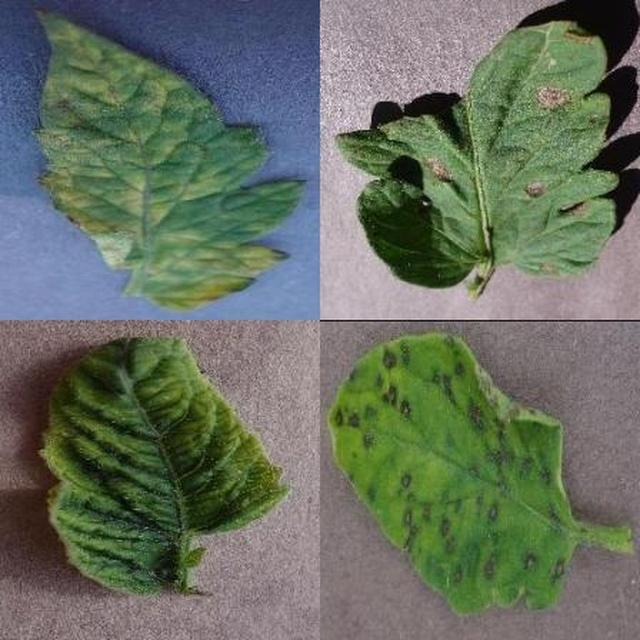Leaf Mold: (237, 221, 640, 640)
